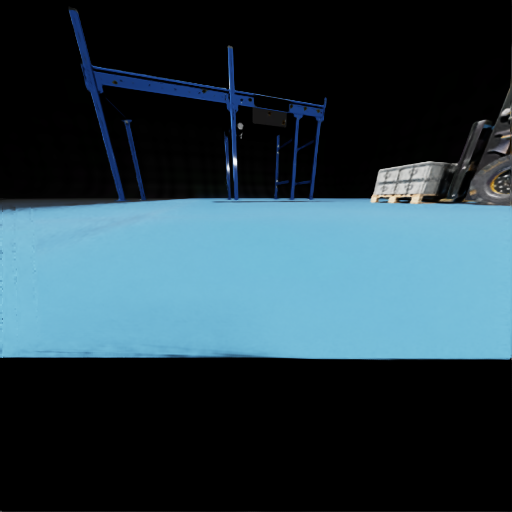transportation_area: (395, 179, 449, 194), (413, 163, 415, 168), (405, 191, 406, 196), (407, 184, 408, 189), (409, 177, 410, 182), (411, 170, 412, 175)
